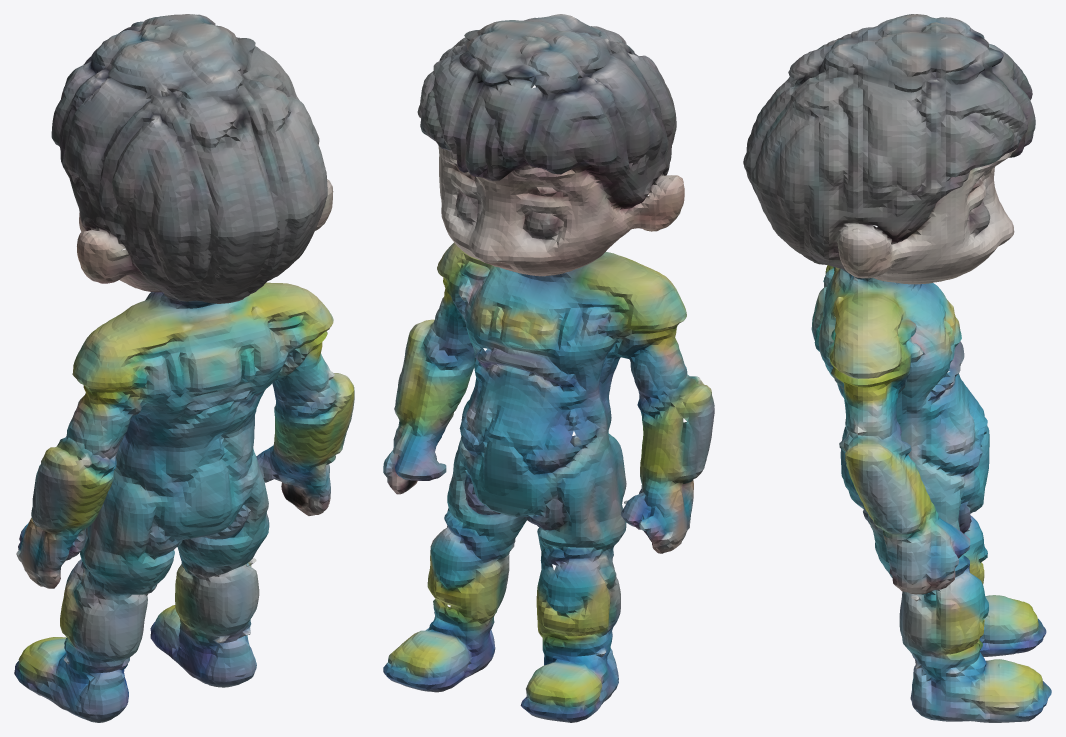
File: character_san.glb
The picture shows the model from 3 angles, left to right: view 1: azimuth 30°, elevation 25°; view 2: azimuth 150°, elevation 25°; view 3: azimuth 270°, elevation 25°; orthographic projection. The views are drawn at different scales.
Parts seen in each view (by area): view 1: world; view 2: world; view 3: world.
Part boxes in pixels (x1,y1,x2,y2): world: (14,14,354,722); world: (383,14,714,722); world: (743,14,1051,722).
Bounding box in the file's own units: 0.4943 × 1.01 × 0.4314.
